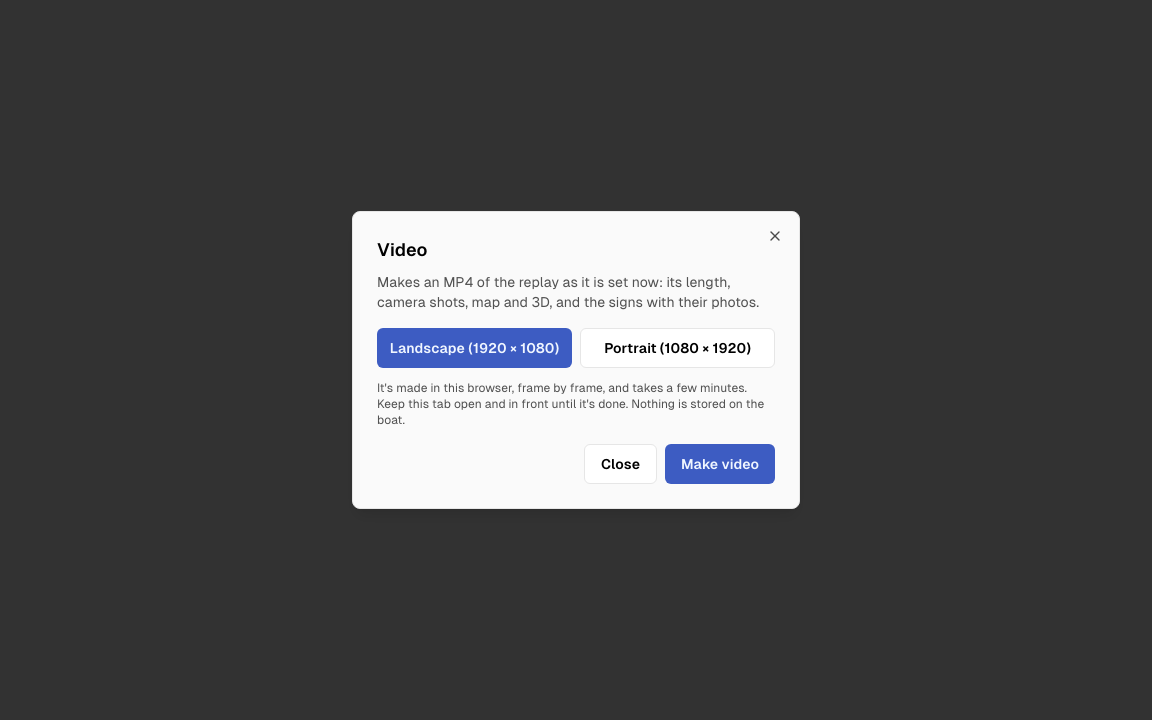
Test: PassageVideoDialog › says the satellite imagery did not load, when that is what stopped it
Click the button "Make video" at (720, 464), box top-left (665, 444), bottom-right (775, 484)
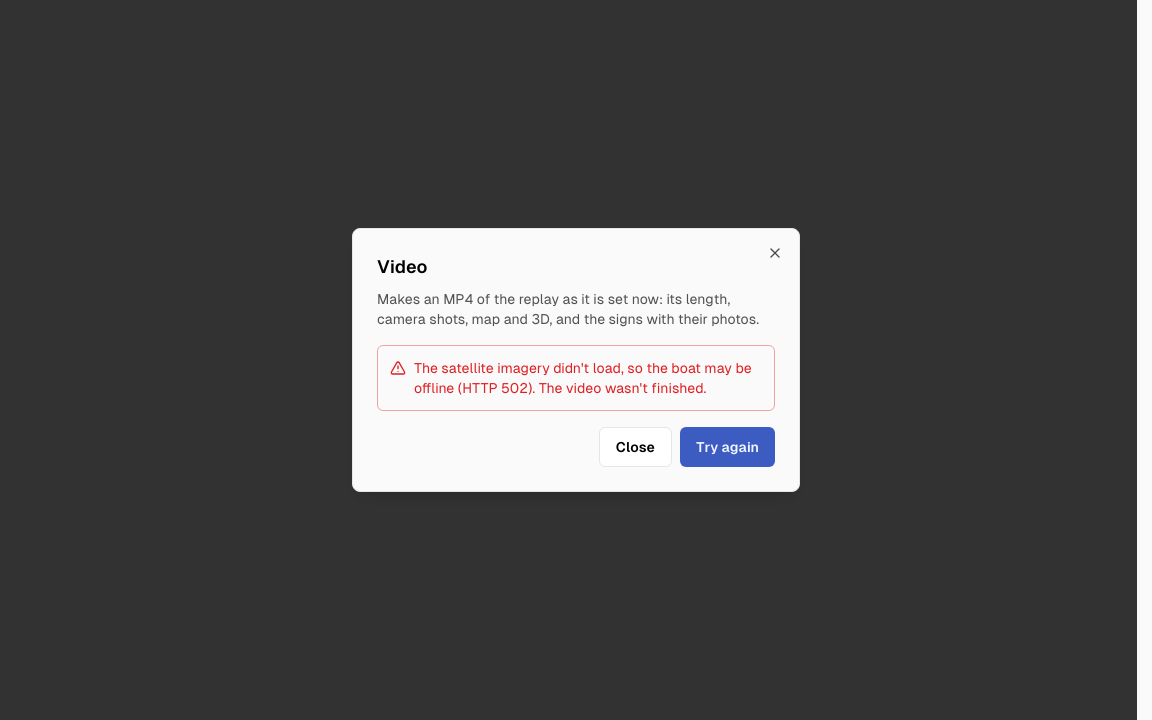
Check: the message shows "The satellite imagery didn't load, so the boat may be offline (HTTP 502). The video wasn't finished.", box top-left (414, 360), bottom-right (752, 396)
